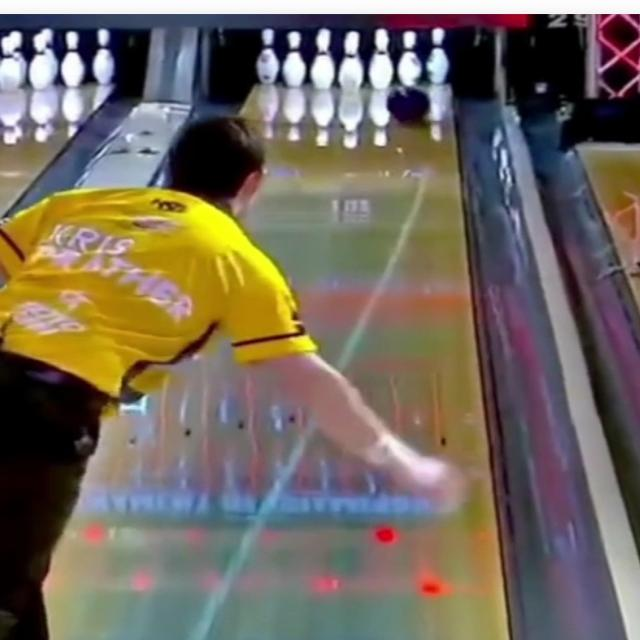alley: (48, 85, 508, 639)
balls: (387, 87, 429, 123)
bottle: (255, 29, 449, 90)
